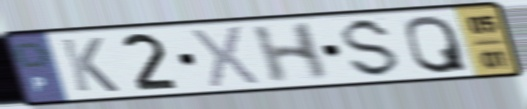2: (121, 32, 180, 92)
H: (249, 20, 332, 87)
K: (57, 35, 123, 94)
Q: (402, 13, 472, 76)
S: (339, 16, 404, 80)
X: (187, 23, 263, 89)
